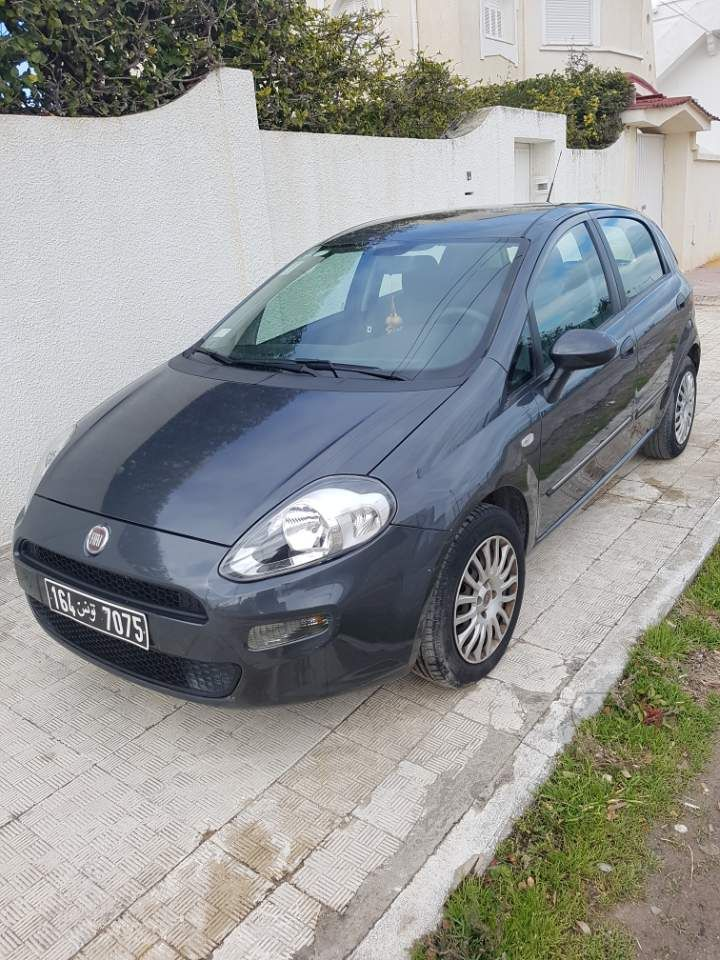LP: (42, 576, 152, 653)
